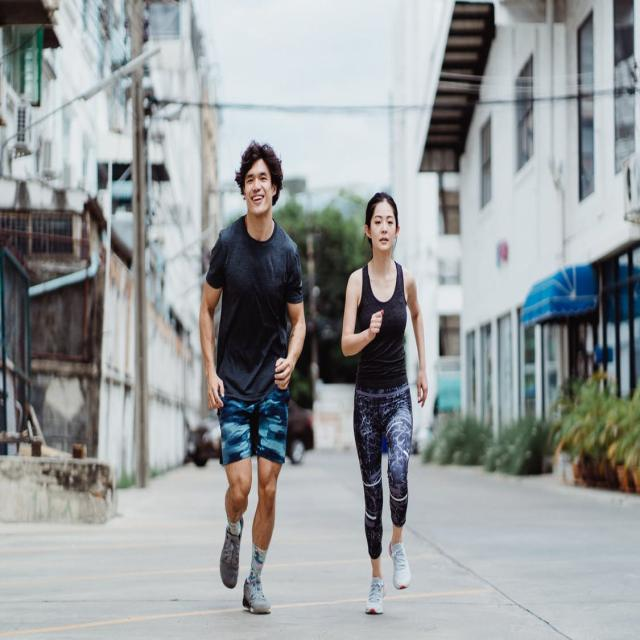running: (200, 139, 310, 616), (341, 189, 430, 618)
